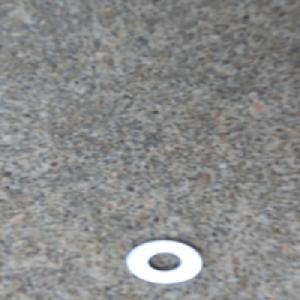Washer: (124, 238, 204, 285)
